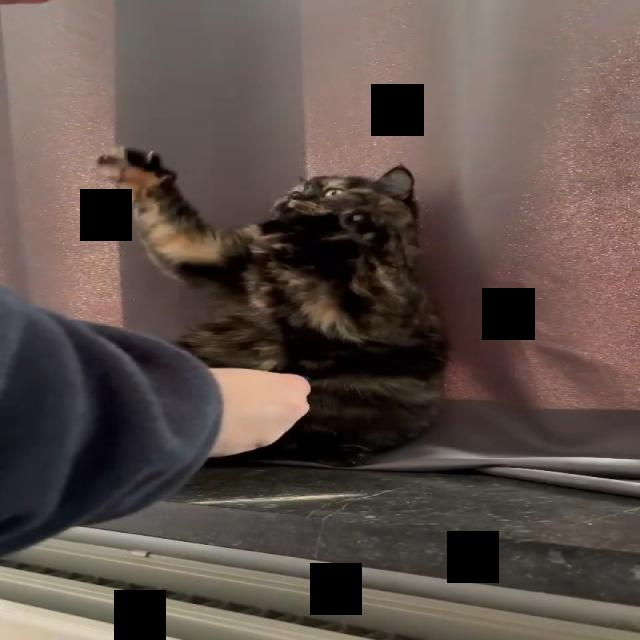authorized: (93, 144, 451, 467)
